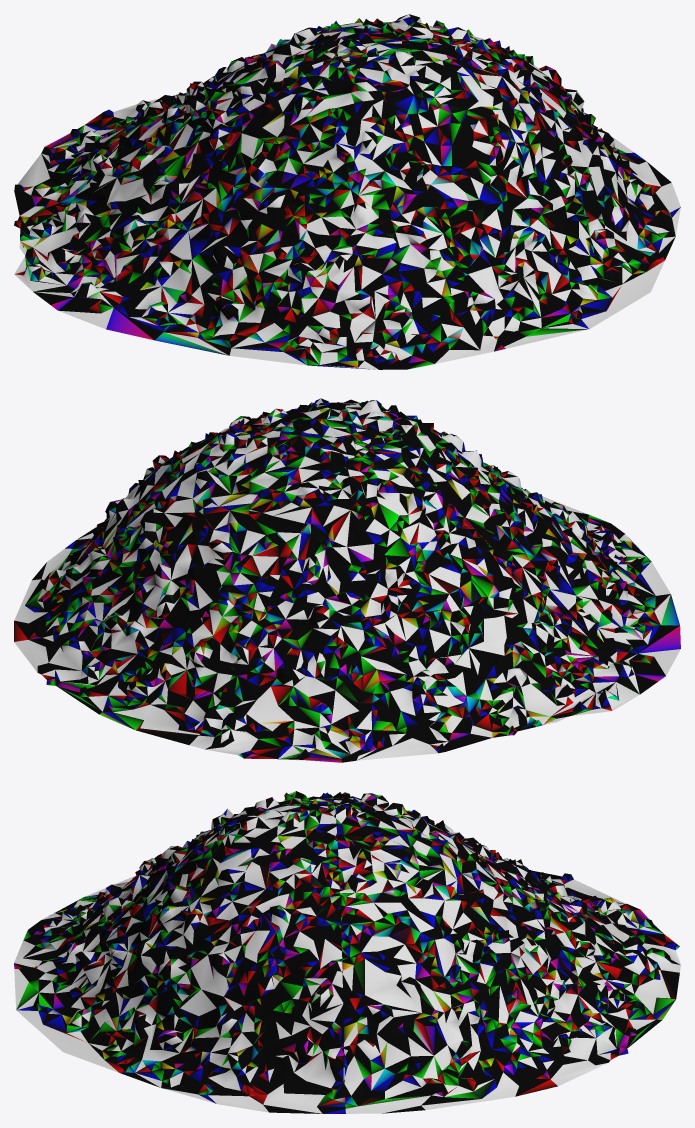
File: SM_PebbleMound01.FBX
3 renders of one model, top to bottom at view 1: azimuth 30°, elevation 25°; view 2: azimuth 150°, elevation 25°; view 3: azimuth 270°, elevation 25°, orthographic. The views are drawn at different scales.
Visible parts, largest first — view 1: PebbleMound01; view 2: PebbleMound01; view 3: PebbleMound01.
Boxes of the visible parts, x1=… form: PebbleMound01: x1=14, y1=14, x2=680, y2=369; PebbleMound01: x1=14, y1=398, x2=680, y2=762; PebbleMound01: x1=14, y1=791, x2=680, y2=1113.
Bounding box in the file's own units: 4.69 × 1.39 × 4.74.
